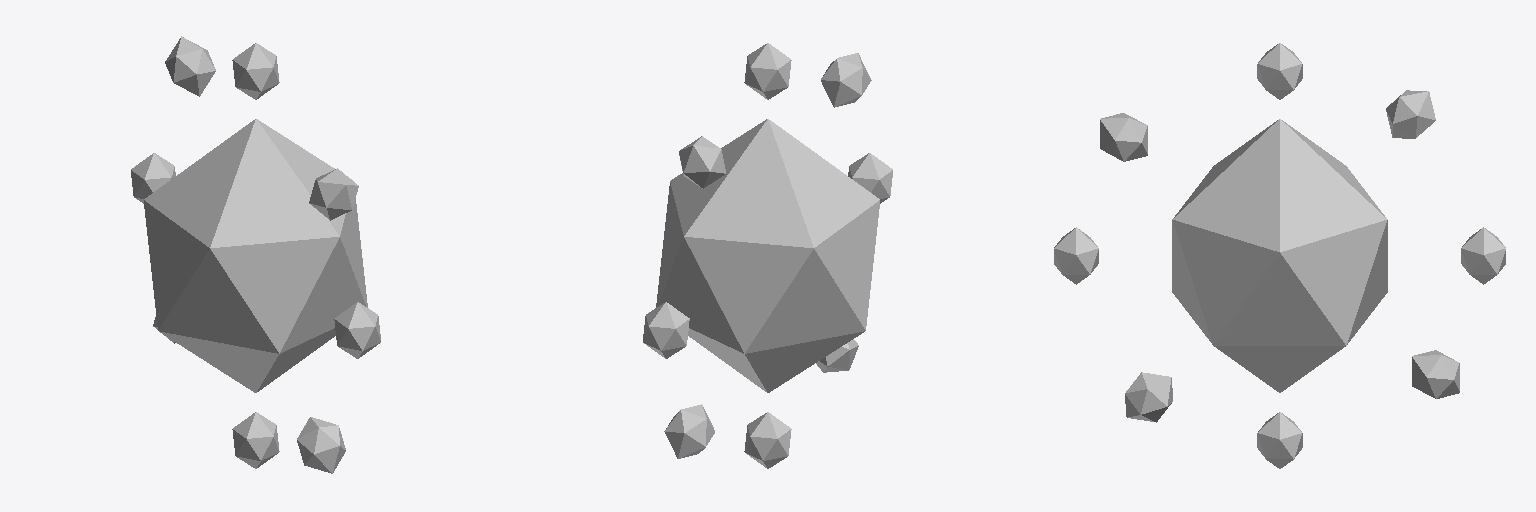
The model's file is sun_trinket.obj.
3 renders of one model, left to right at view 1: azimuth 30°, elevation 25°; view 2: azimuth 150°, elevation 25°; view 3: azimuth 270°, elevation 25°, orthographic.
Parts seen in each view (by area): view 1: Icosphere, Icosphere.008, Icosphere.007, Icosphere.001, Icosphere.002, Icosphere.004, Icosphere.005, Icosphere.003; view 2: Icosphere, Icosphere.001, Icosphere.002, Icosphere.003, Icosphere.005, Icosphere.006, Icosphere.007, Icosphere.004, Icosphere.008; view 3: Icosphere, Icosphere.005, Icosphere.006, Icosphere.008, Icosphere.007, Icosphere.001, Icosphere.002, Icosphere.003, Icosphere.004.
Boxes of the visible parts, x1,y1,x2,y2 form: Icosphere: [144, 119, 367, 392]; Icosphere.008: [297, 417, 345, 473]; Icosphere.007: [165, 36, 215, 96]; Icosphere.001: [232, 43, 279, 99]; Icosphere.002: [232, 412, 279, 468]; Icosphere.004: [334, 302, 380, 358]; Icosphere.005: [309, 168, 358, 220]; Icosphere.003: [131, 153, 175, 203]; Icosphere: [656, 119, 879, 392]; Icosphere.001: [744, 43, 791, 99]; Icosphere.002: [744, 412, 791, 468]; Icosphere.003: [643, 302, 689, 358]; Icosphere.005: [821, 53, 871, 107]; Icosphere.006: [664, 404, 714, 458]; Icosphere.007: [679, 136, 725, 188]; Icosphere.004: [848, 153, 892, 203]; Icosphere.008: [816, 339, 858, 372]; Icosphere: [1172, 119, 1387, 392]; Icosphere.005: [1100, 113, 1147, 161]; Icosphere.006: [1412, 350, 1459, 398]; Icosphere.008: [1125, 372, 1172, 422]; Icosphere.007: [1386, 90, 1435, 138]; Icosphere.001: [1257, 43, 1302, 99]; Icosphere.002: [1257, 412, 1302, 468]; Icosphere.003: [1461, 227, 1505, 284]; Icosphere.004: [1054, 227, 1098, 284].
Size of the model in its own units: 0.1789 by 0.3724 by 0.3577.